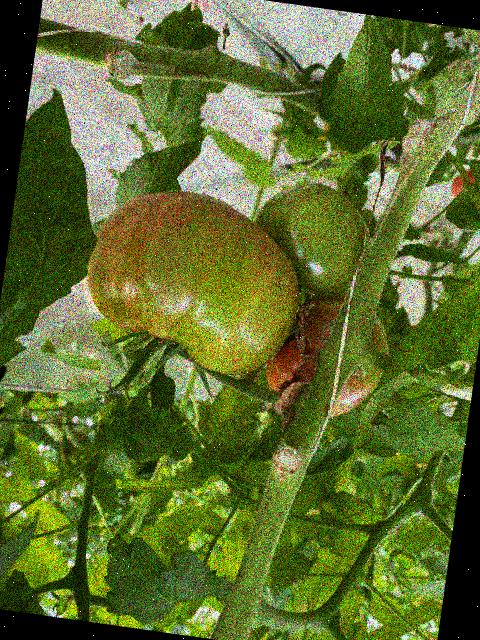b_green: (73, 179, 312, 385), (244, 175, 374, 300)
b_half_ripened: (259, 284, 397, 428)
